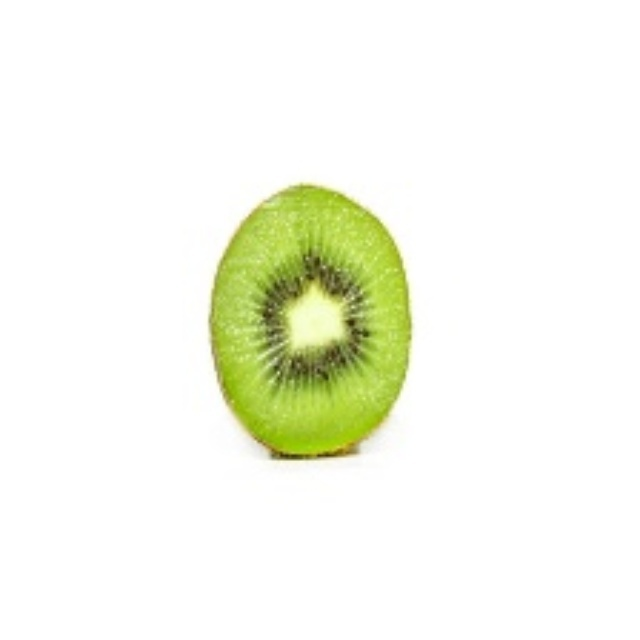kiwi: (211, 182, 417, 465)
